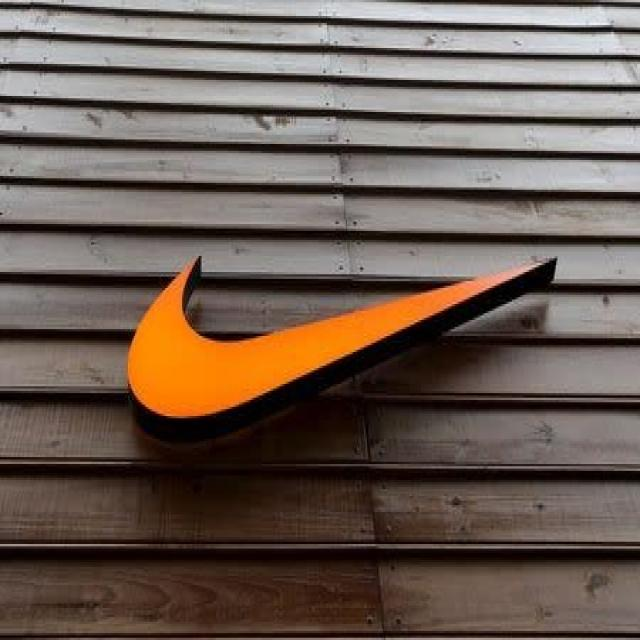nike: (119, 251, 564, 442)
